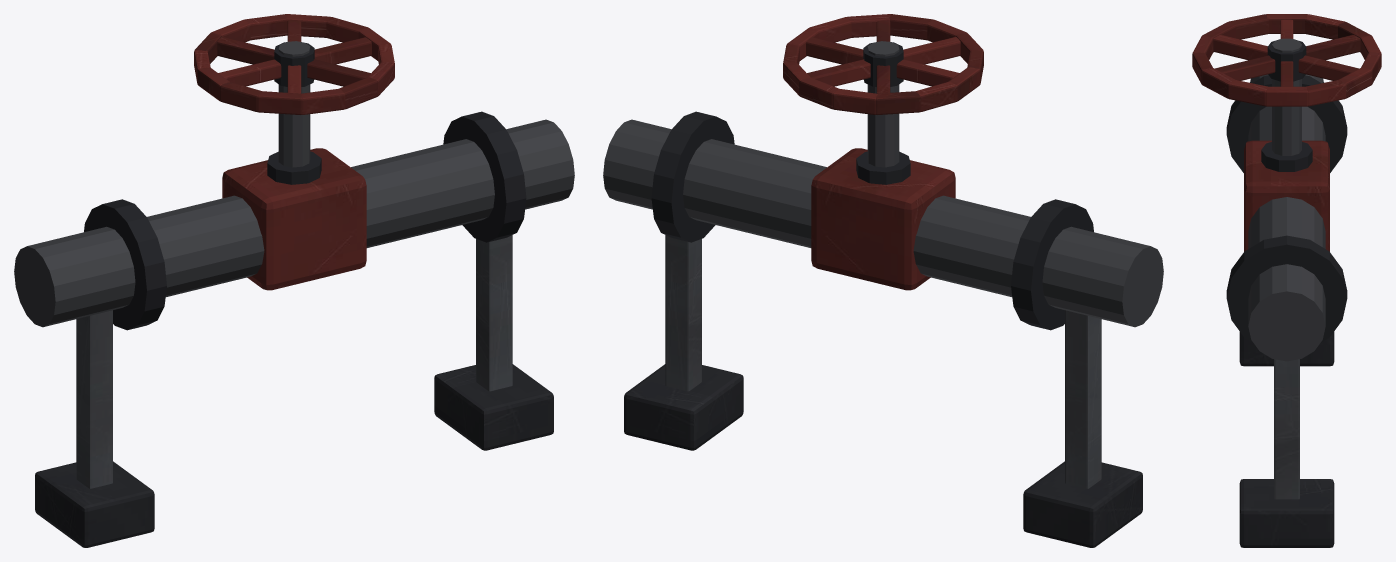
Rendered from valve_wheel.glb.
The picture shows the model from 3 angles, left to right: view 1: azimuth 30°, elevation 25°; view 2: azimuth 150°, elevation 25°; view 3: azimuth 270°, elevation 25°; orthographic projection. The views are drawn at different scales.
Visible parts, largest first — view 1: body, wheel; view 2: body, wheel; view 3: body, wheel.
Part boxes in pixels (box(x1,y1,x2,y2)): body: box(14, 41, 574, 547); wheel: box(194, 14, 394, 114); body: box(603, 41, 1163, 547); wheel: box(783, 14, 983, 114); body: box(1226, 38, 1347, 547); wheel: box(1192, 14, 1381, 106).
Size of the model in its own units: 1.3 by 1.02 by 0.4398.
3 materials, 3 textured.
